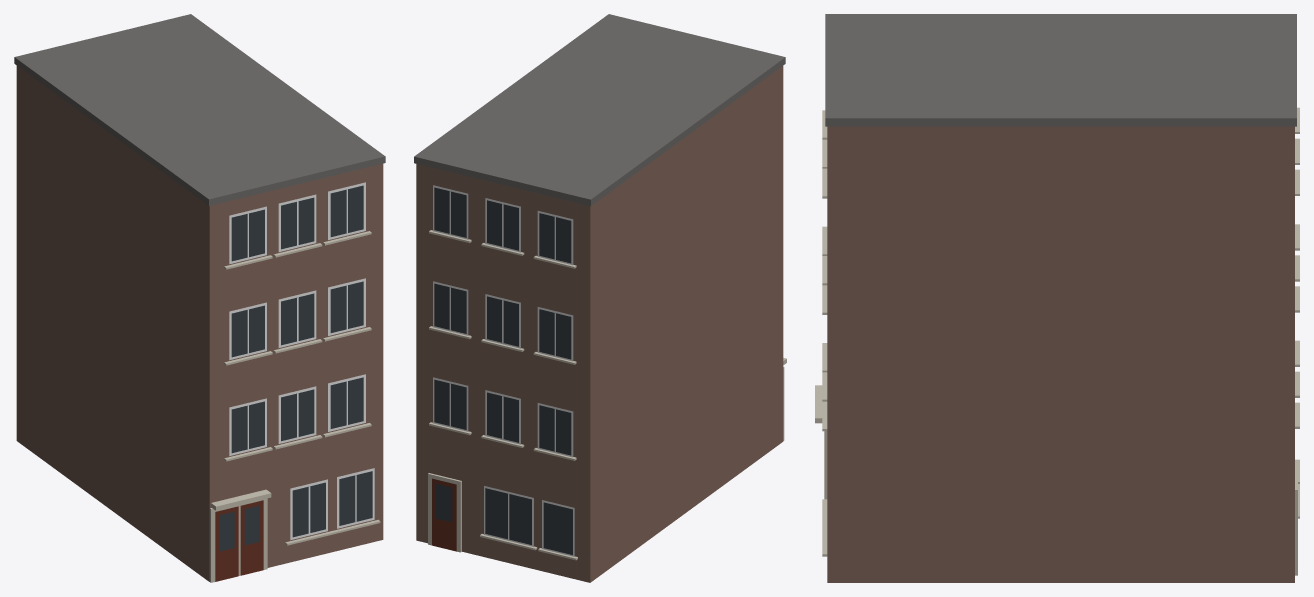
Rendered from we-or-three__hood__4__flat__long__solid.glb.
3 renders of one model, left to right at view 1: azimuth 30°, elevation 25°; view 2: azimuth 150°, elevation 25°; view 3: azimuth 270°, elevation 25°, orthographic. The views are drawn at different scales.
Visible parts, largest first — view 1: we-or-three__hood__4__flat__long__solid; view 2: we-or-three__hood__4__flat__long__solid; view 3: we-or-three__hood__4__flat__long__solid.
Boxes of the visible parts, box(x1,y1,x2,y2) form: we-or-three__hood__4__flat__long__solid: box(14, 14, 385, 582); we-or-three__hood__4__flat__long__solid: box(414, 14, 786, 582); we-or-three__hood__4__flat__long__solid: box(815, 14, 1299, 582).
Bounding box in the file's own units: 6.07 × 12.6 × 11.9.
